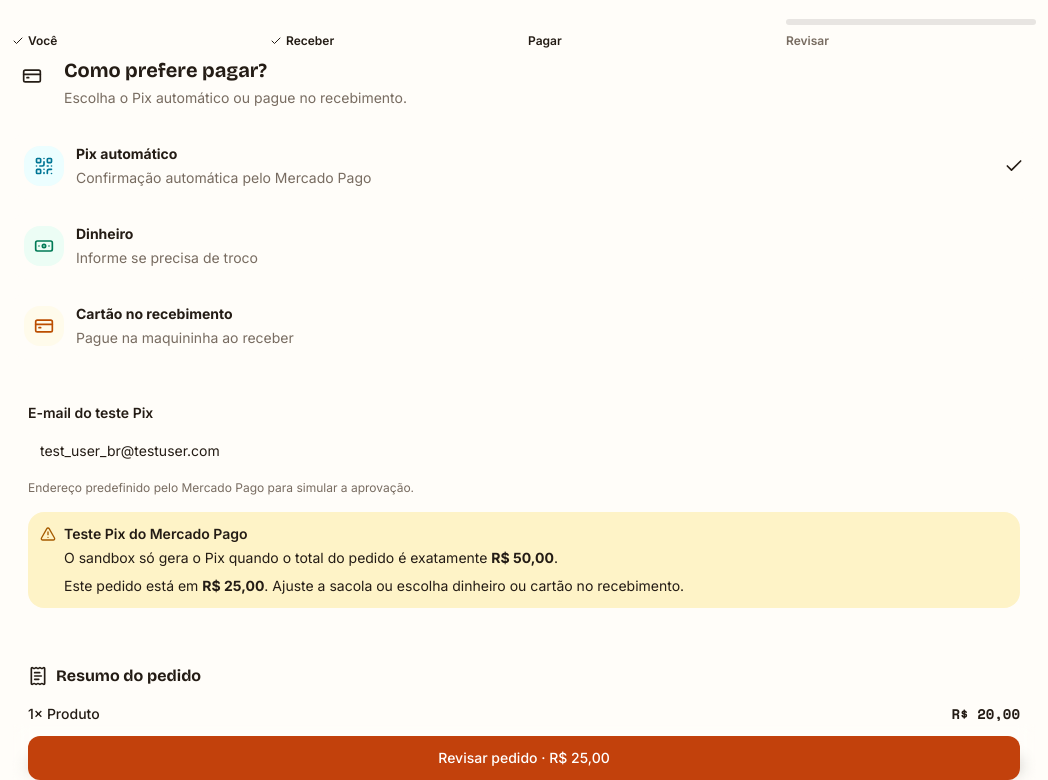
checkout público v2 › oferece Pix automático junto com dinheiro e cartão no recebimento
Expected: the radio button labelled "Pix automático Confirmação automática pelo Mercado Pago" is checked, [12,132,1036,200]
Expected: the radio button labelled "Cartão no recebimento Pague na maquininha ao receber" is shown, [12,292,1036,360]
Click the radio button labelled "Dinheiro Informe se precisa de troco".
click(524, 246)  # box [12,212,1036,280]
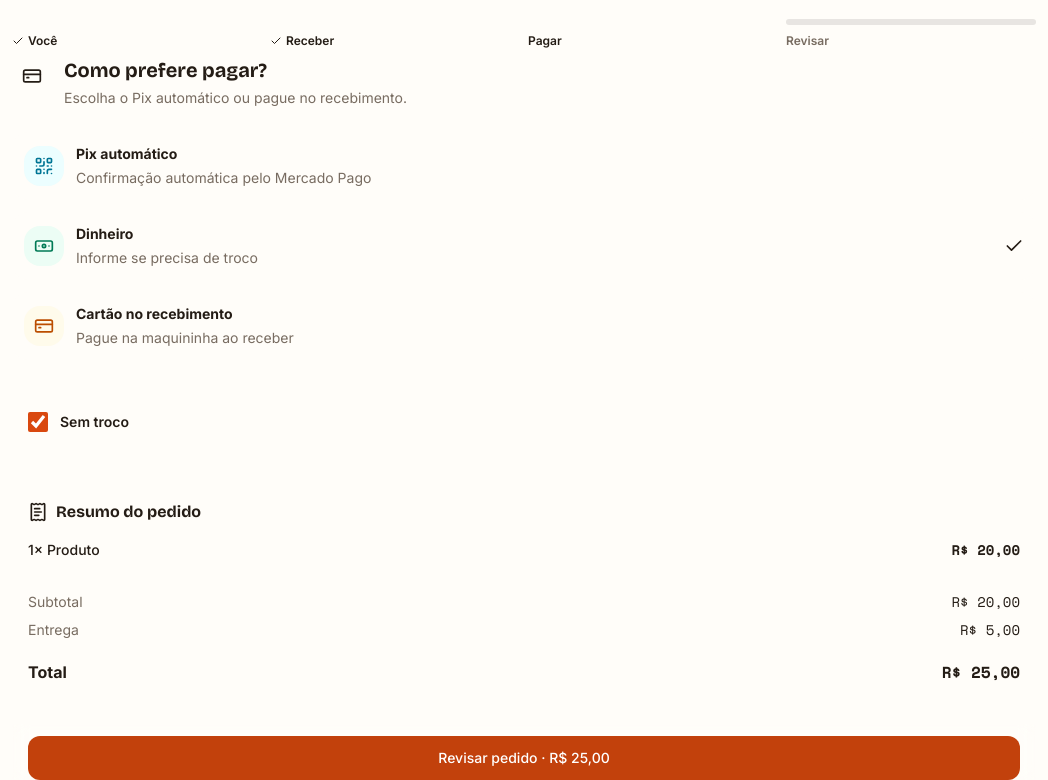
Result: the label "E-mail do teste Pix" is gone
